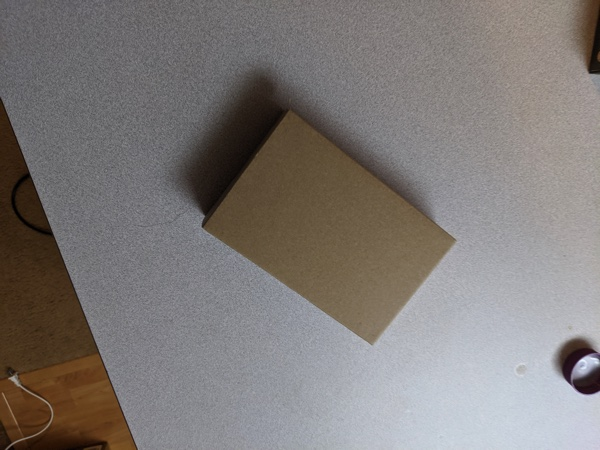cardboard: (189, 98, 472, 363)
